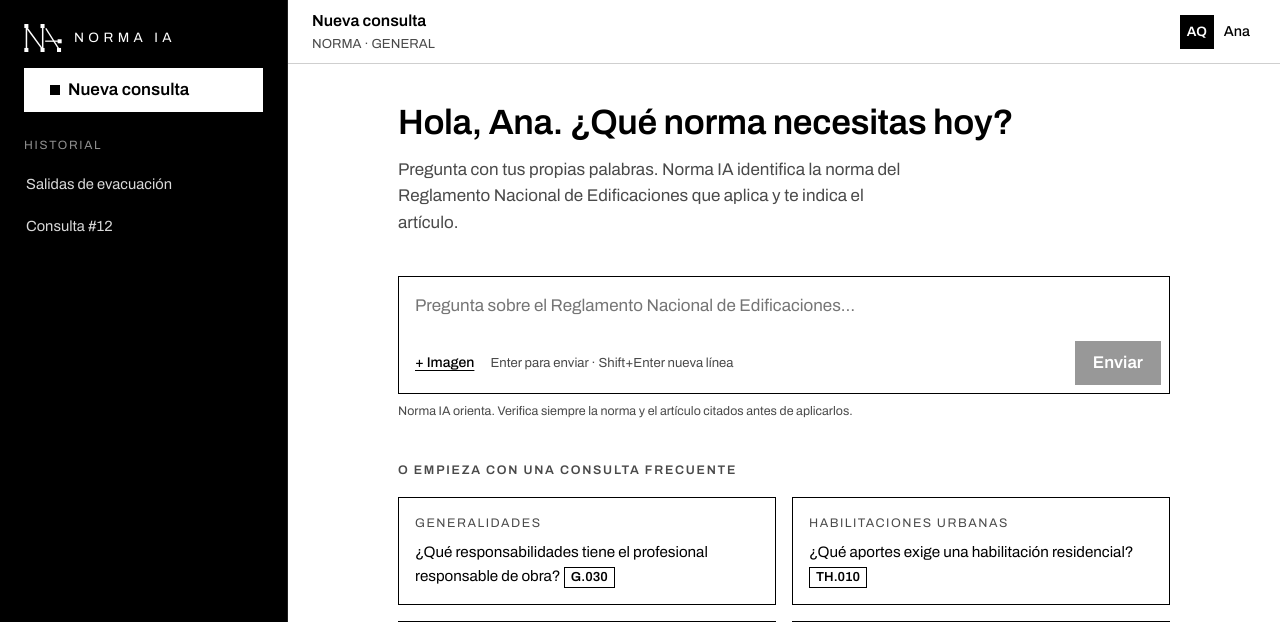
Test: chat del usuario final › error del servidor: mensaje propio y reintento con la misma consulta
Type "Pregunta X" into the text box named "Escribe tu consulta" at (784, 305), box [399, 277, 1169, 333]
Then press Enter
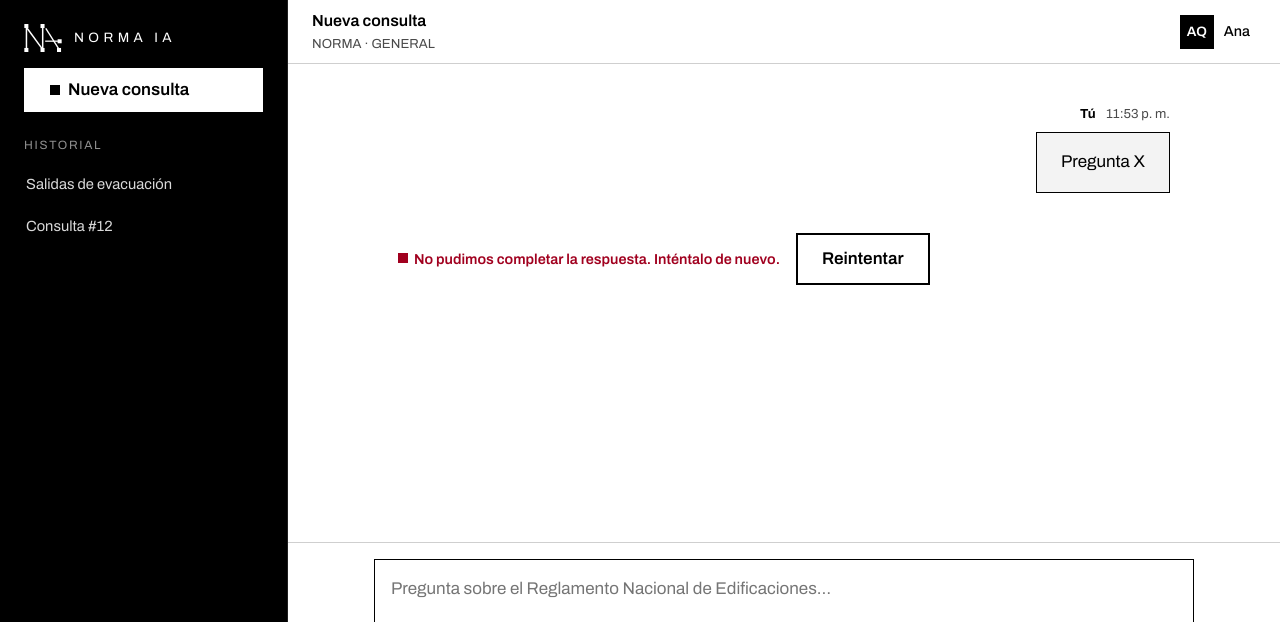
Now the text "No pudimos completar la respuesta. Inténtalo de nuevo." is shown, box [398, 248, 780, 270]
Click the button "Reintentar" at (863, 259), box [796, 233, 930, 285]
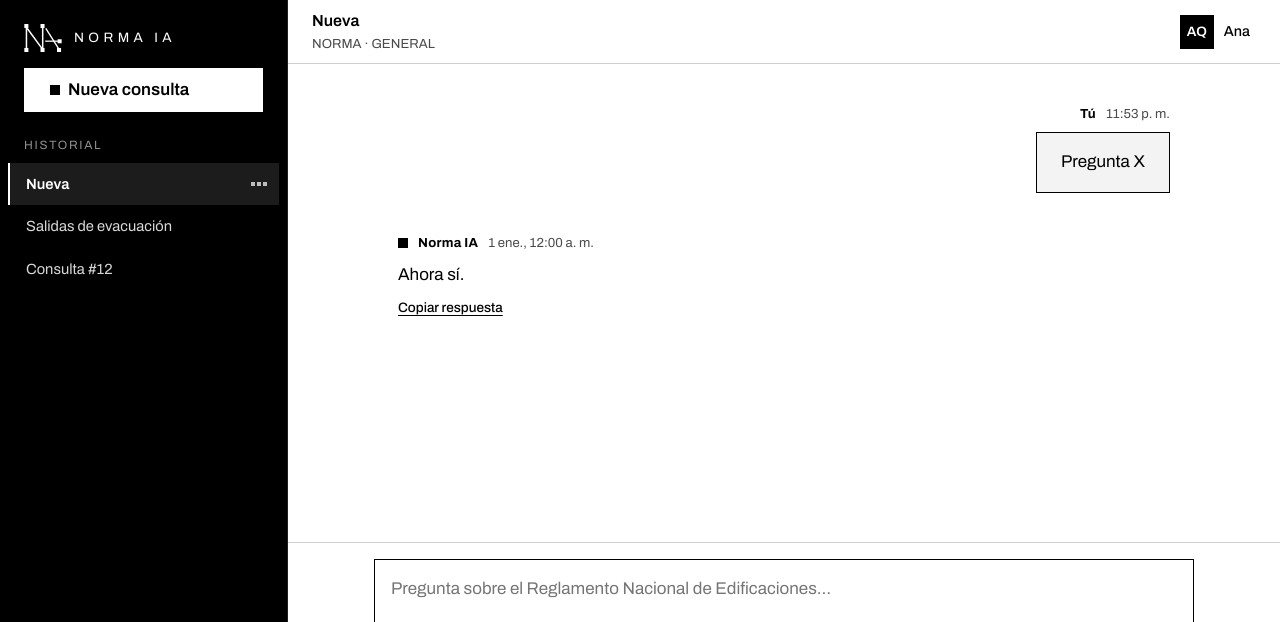
Now the text "Ahora sí." is shown, box [398, 265, 464, 284]
